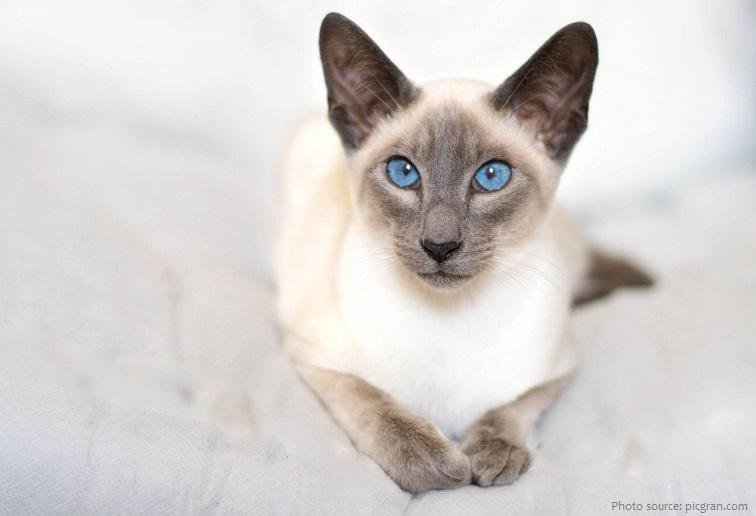siamese: (312, 9, 612, 310)
